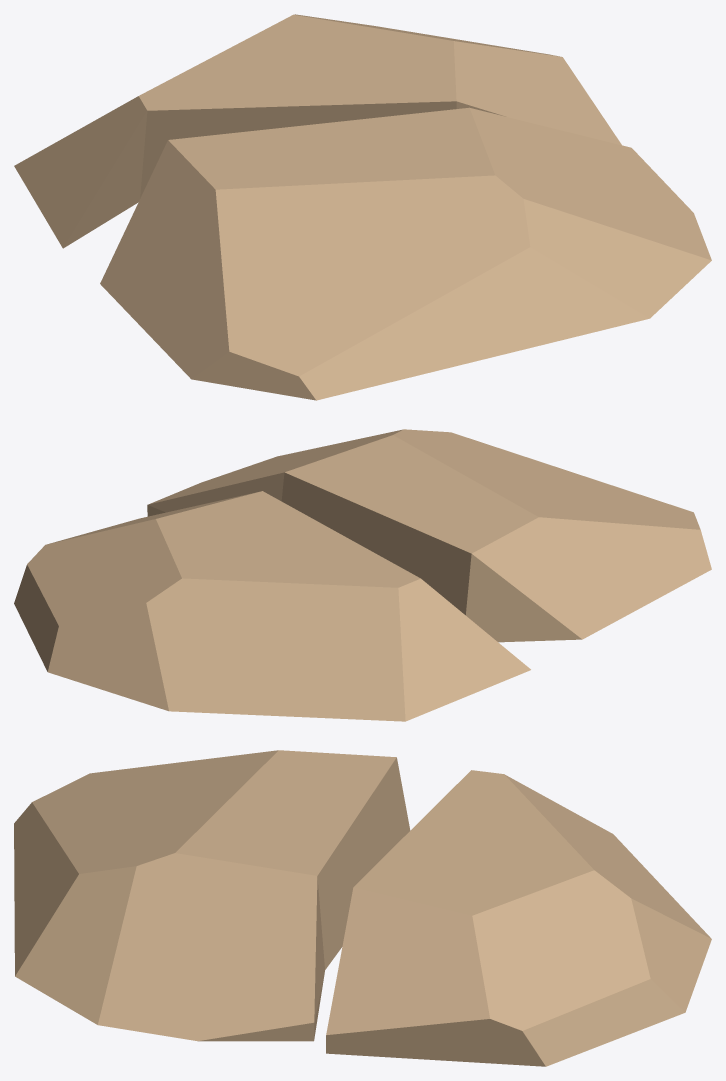
File: Rock_Flat_crk_s_05.fbx
3 views of the same model, one above another, from view 1: azimuth 30°, elevation 25°; view 2: azimuth 150°, elevation 25°; view 3: azimuth 270°, elevation 25° (orthographic). The views are drawn at different scales.
Parts seen in each view (by area): view 1: Rock_Flat_crk_s_05; view 2: Rock_Flat_crk_s_05; view 3: Rock_Flat_crk_s_05.
Part boxes in pixels (left/top/right/bottom): Rock_Flat_crk_s_05: left=14, top=14, right=711, bottom=400; Rock_Flat_crk_s_05: left=14, top=429, right=711, bottom=721; Rock_Flat_crk_s_05: left=14, top=750, right=711, bottom=1066.
Size of the model in its own units: 67.06 by 12.15 by 74.63.
